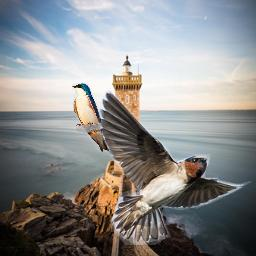Swallow: (97, 88, 251, 245), (72, 83, 111, 152)
